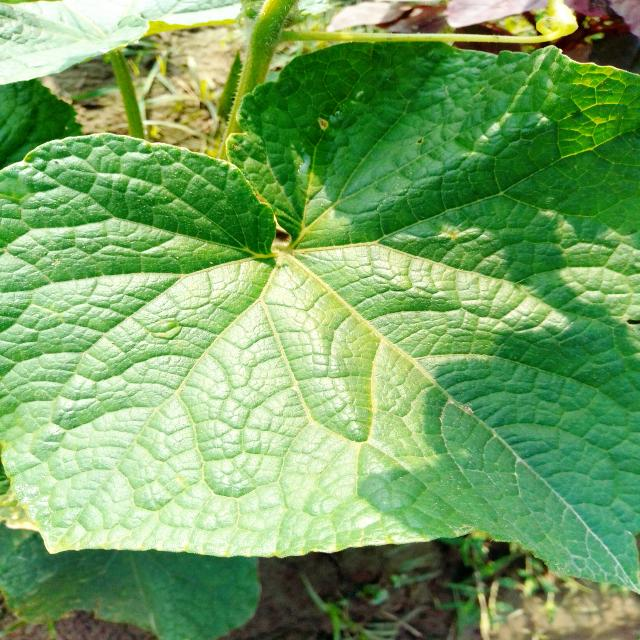Fresh-Leaf: (0, 37, 640, 589)
